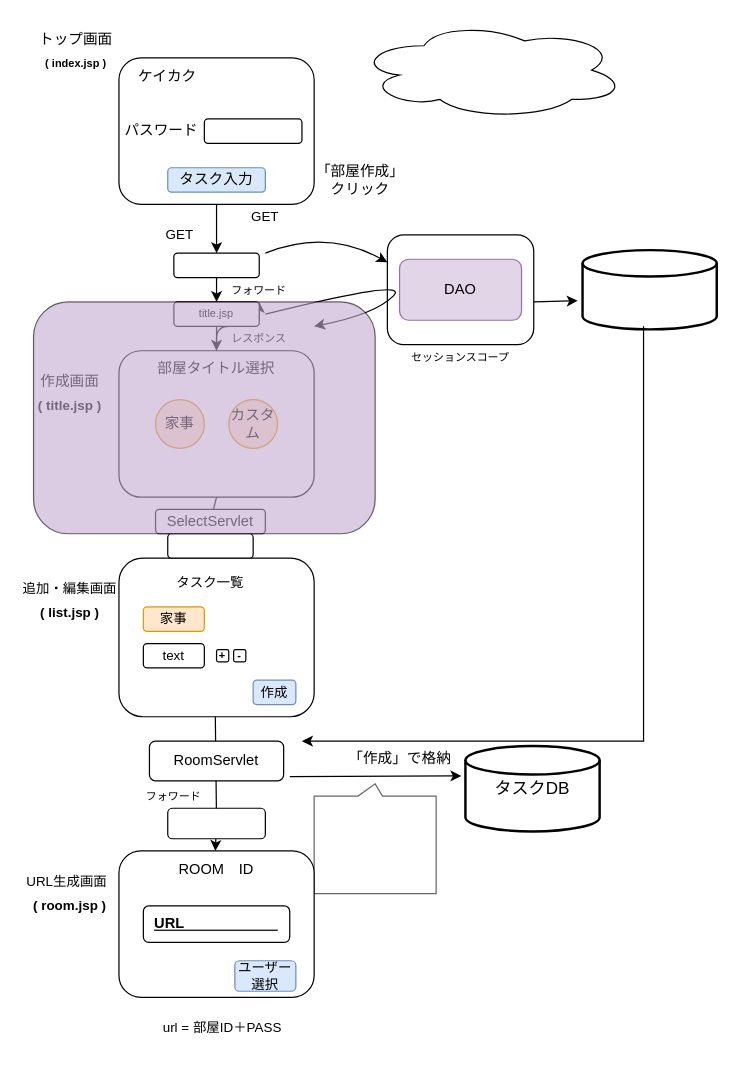
This 738x1068 diagram has some shape labels left out. Here are the shapes that lost their labels. From the top down, the box of each, then its label:
(356, 20, 625, 119): ROOMIDはデーターベースより 自動で生成
(173, 252, 259, 278): LoginServlet
(581, 248, 717, 330): 部屋DB
(167, 533, 253, 558): list.jsp
(167, 807, 265, 839): room.jsp
(313, 783, 436, 894): Arraylist<tasklist> text1 text2 text3
